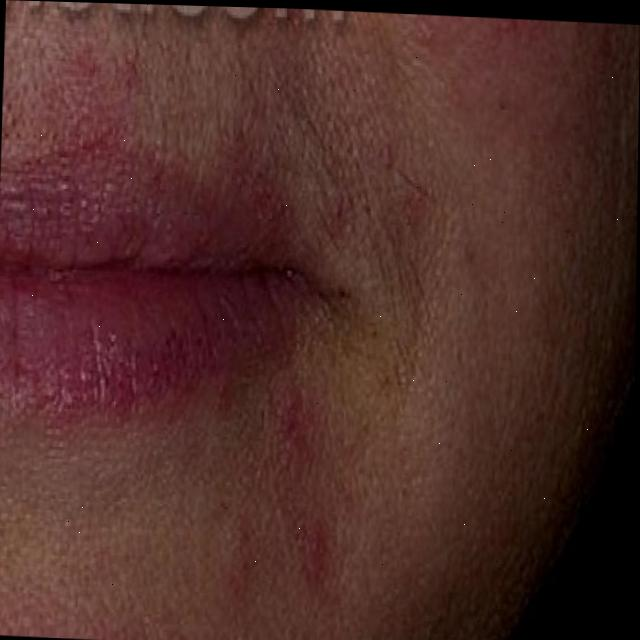Rosacea: (218, 373, 351, 603), (381, 13, 571, 157)
